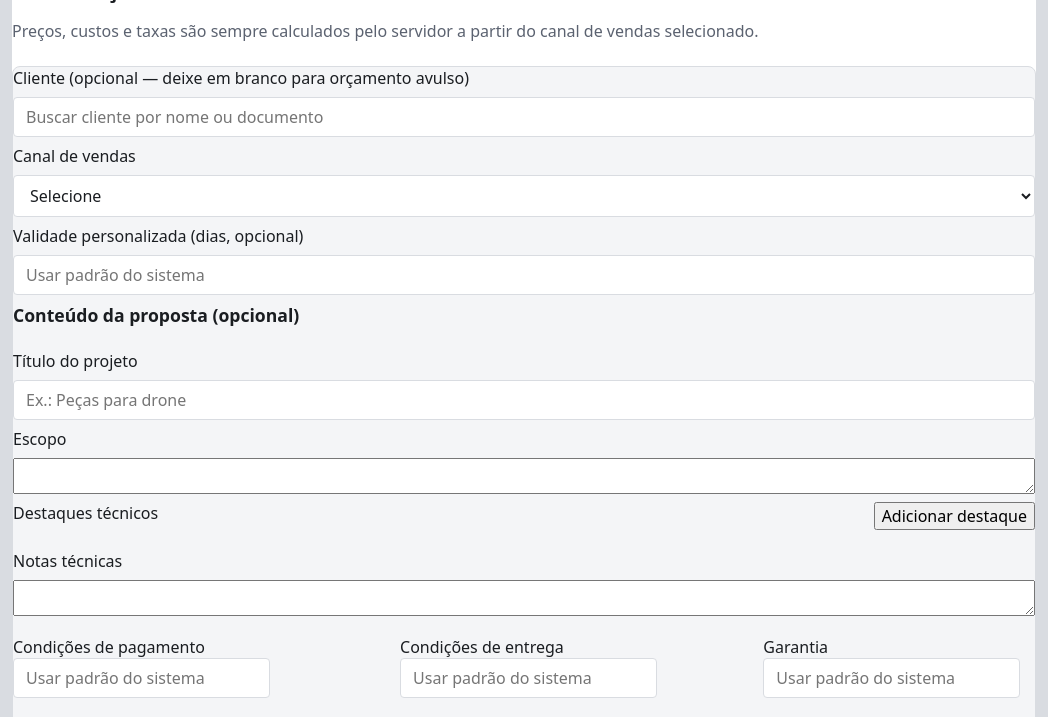
QuoteNewPage › rejects submission when a filled-in item has a zero quantity
Step 1. Select "Venda Direta" in the dropdown labelled "Canal de vendas" → [524, 196], box [13,175,1035,217]
(page scrolled)
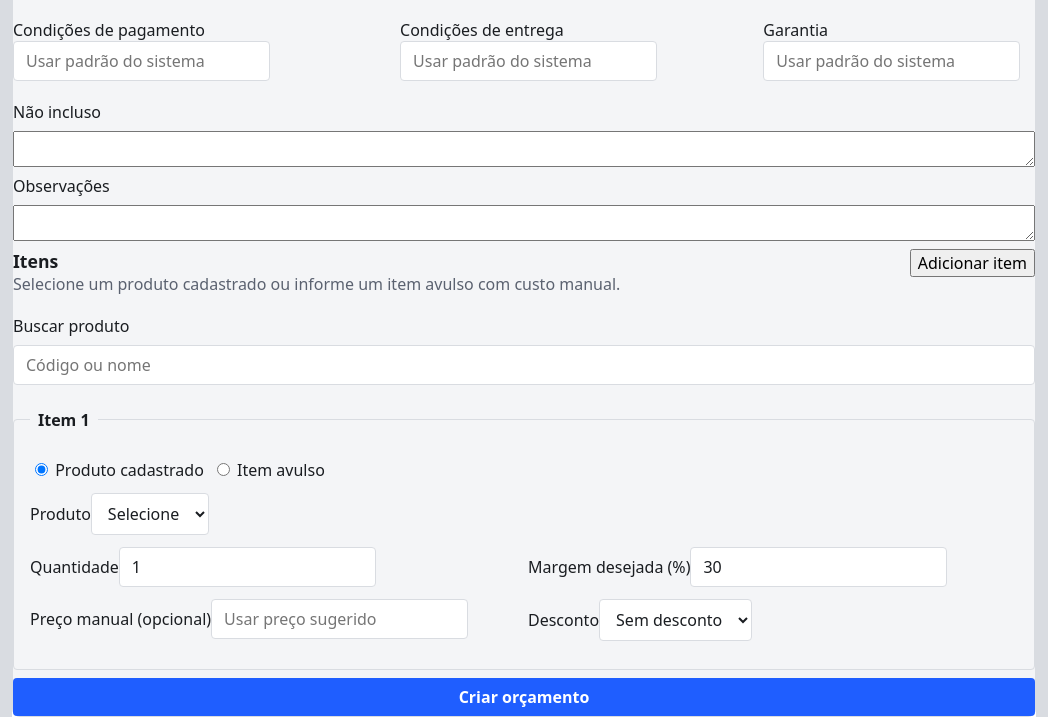
Step 2. Click the radio button labelled "Item avulso" → [223, 469], box [217,463,230,476]
(page scrolled)
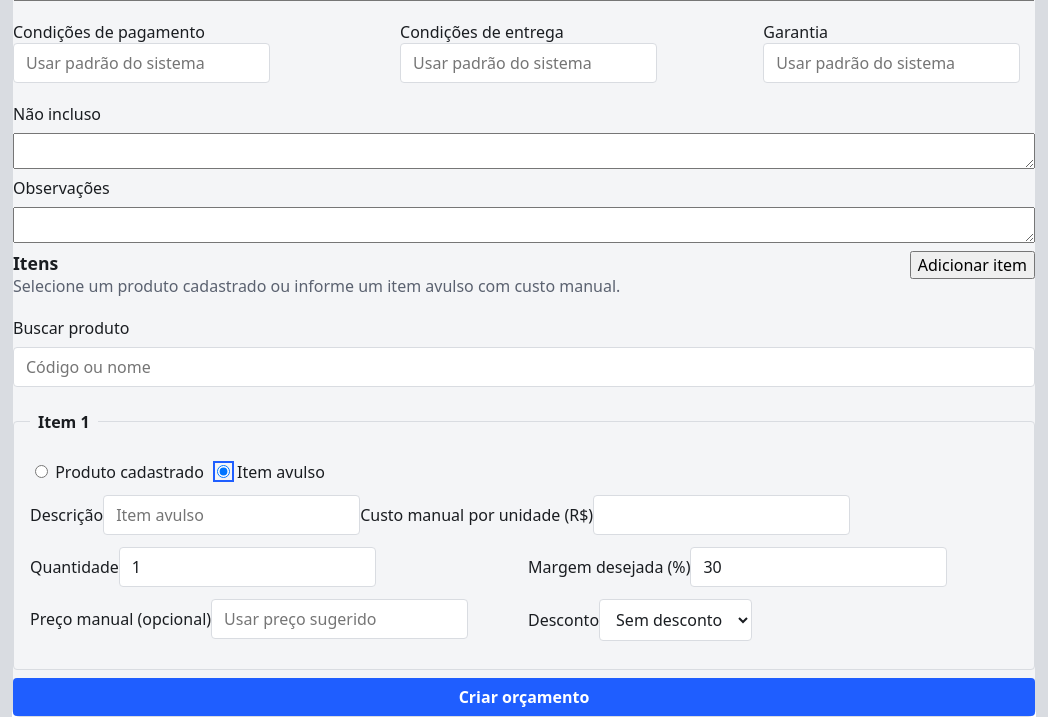
Step 3. Type "X" into the field with placeholder "Item avulso" → [232, 515], box [103,495,360,535]
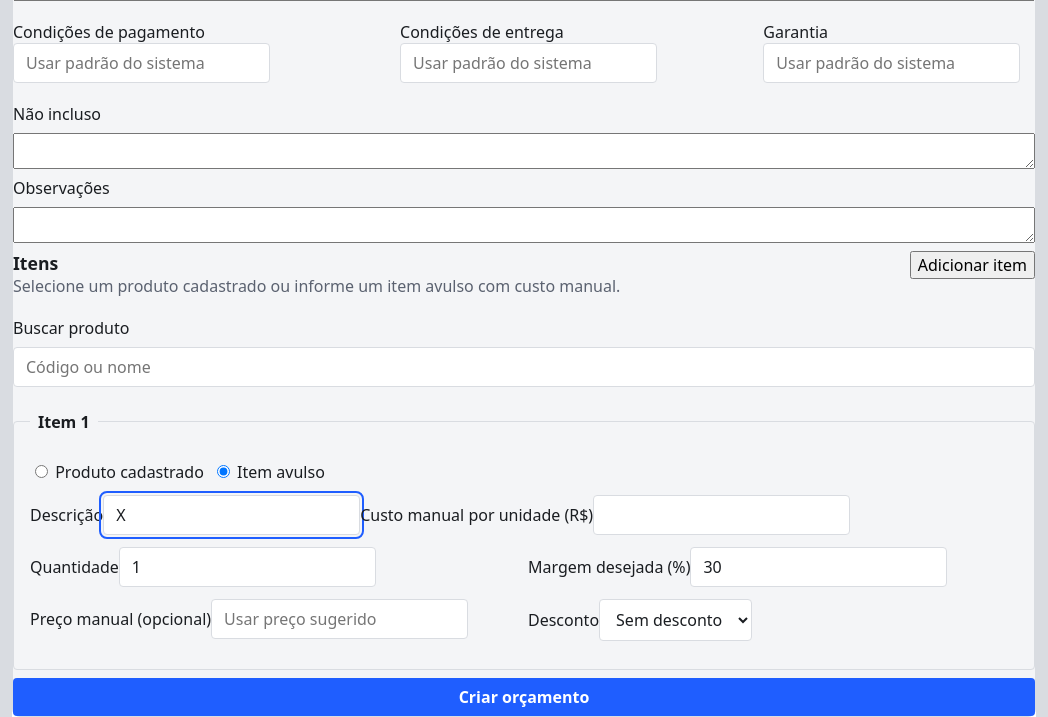
Step 4. Type "10" into the number field labelled "Custo manual por unidade (R$)" → [722, 515], box [593,495,850,535]
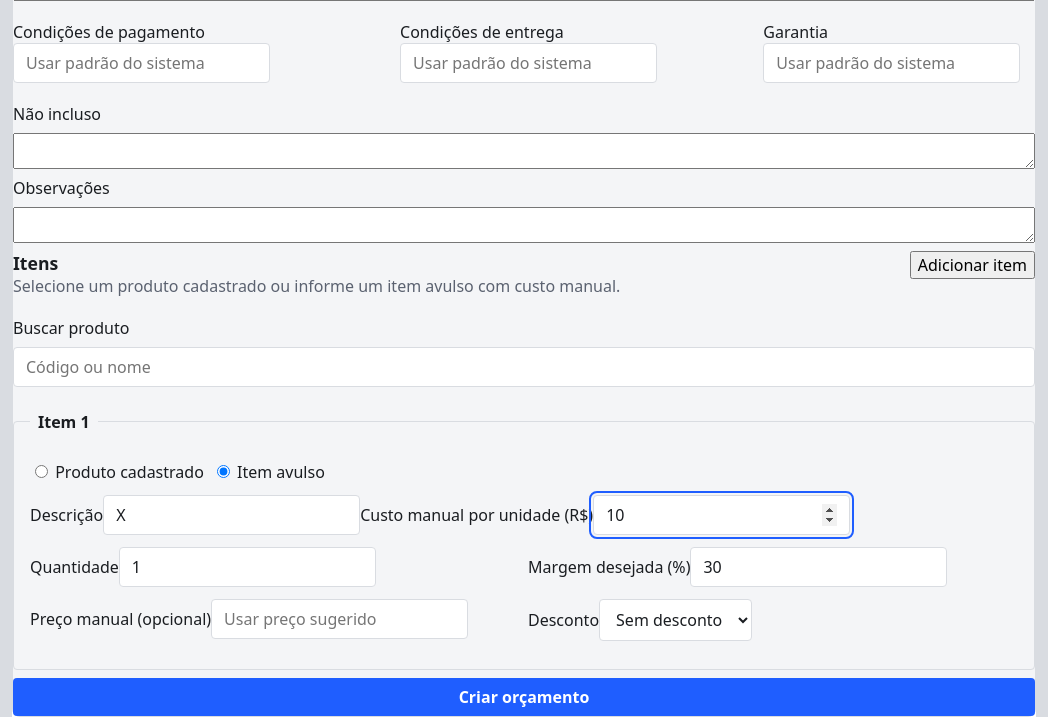
Step 5. Replace the text in the number field labelled "Quantidade" with "0" → [247, 567], box [119,547,376,587]
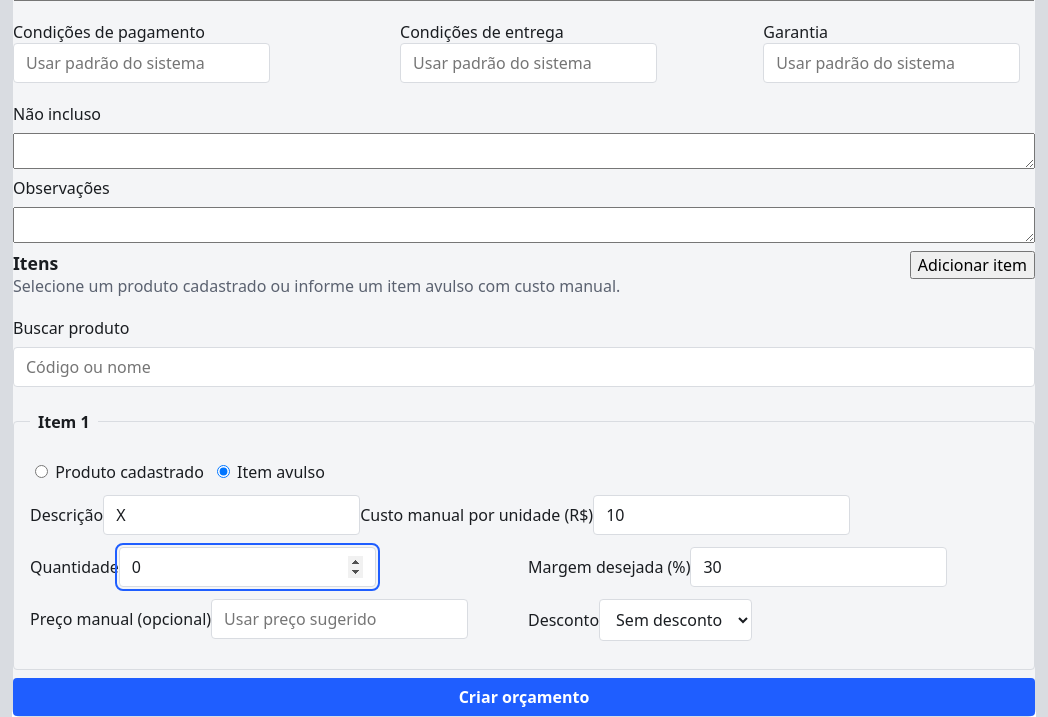
Step 6. Click the button "Criar orçamento" → [524, 697], box [13,678,1035,716]
(page scrolled)
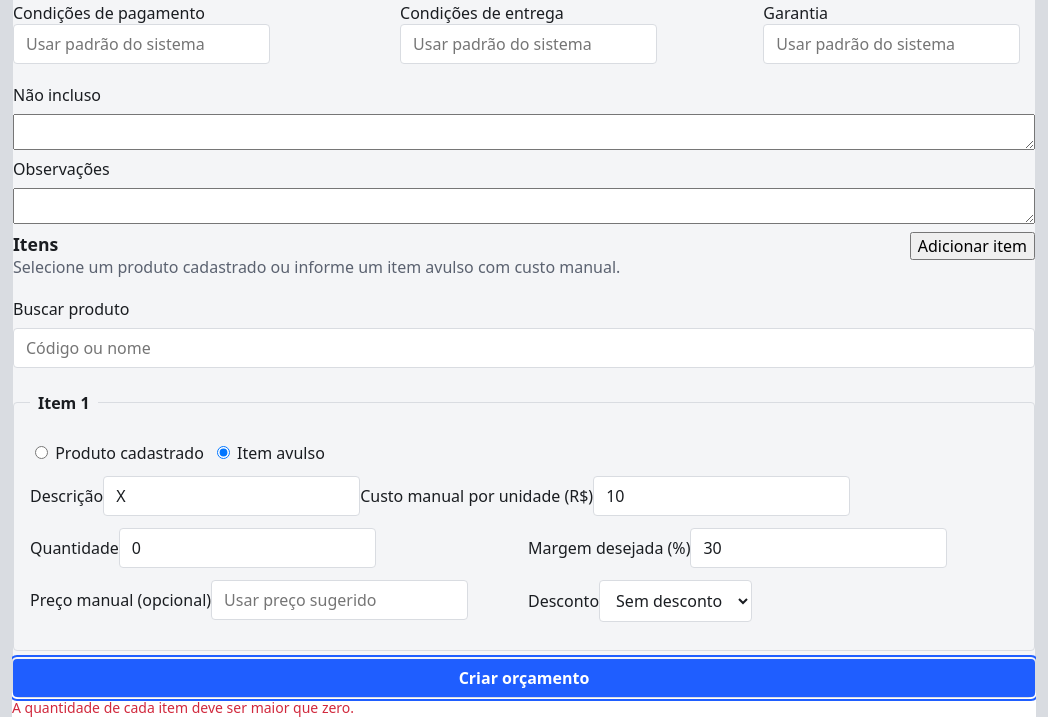
Check: the message shows "quantidade de cada item deve ser maior que zero", box [12,698,354,716]
